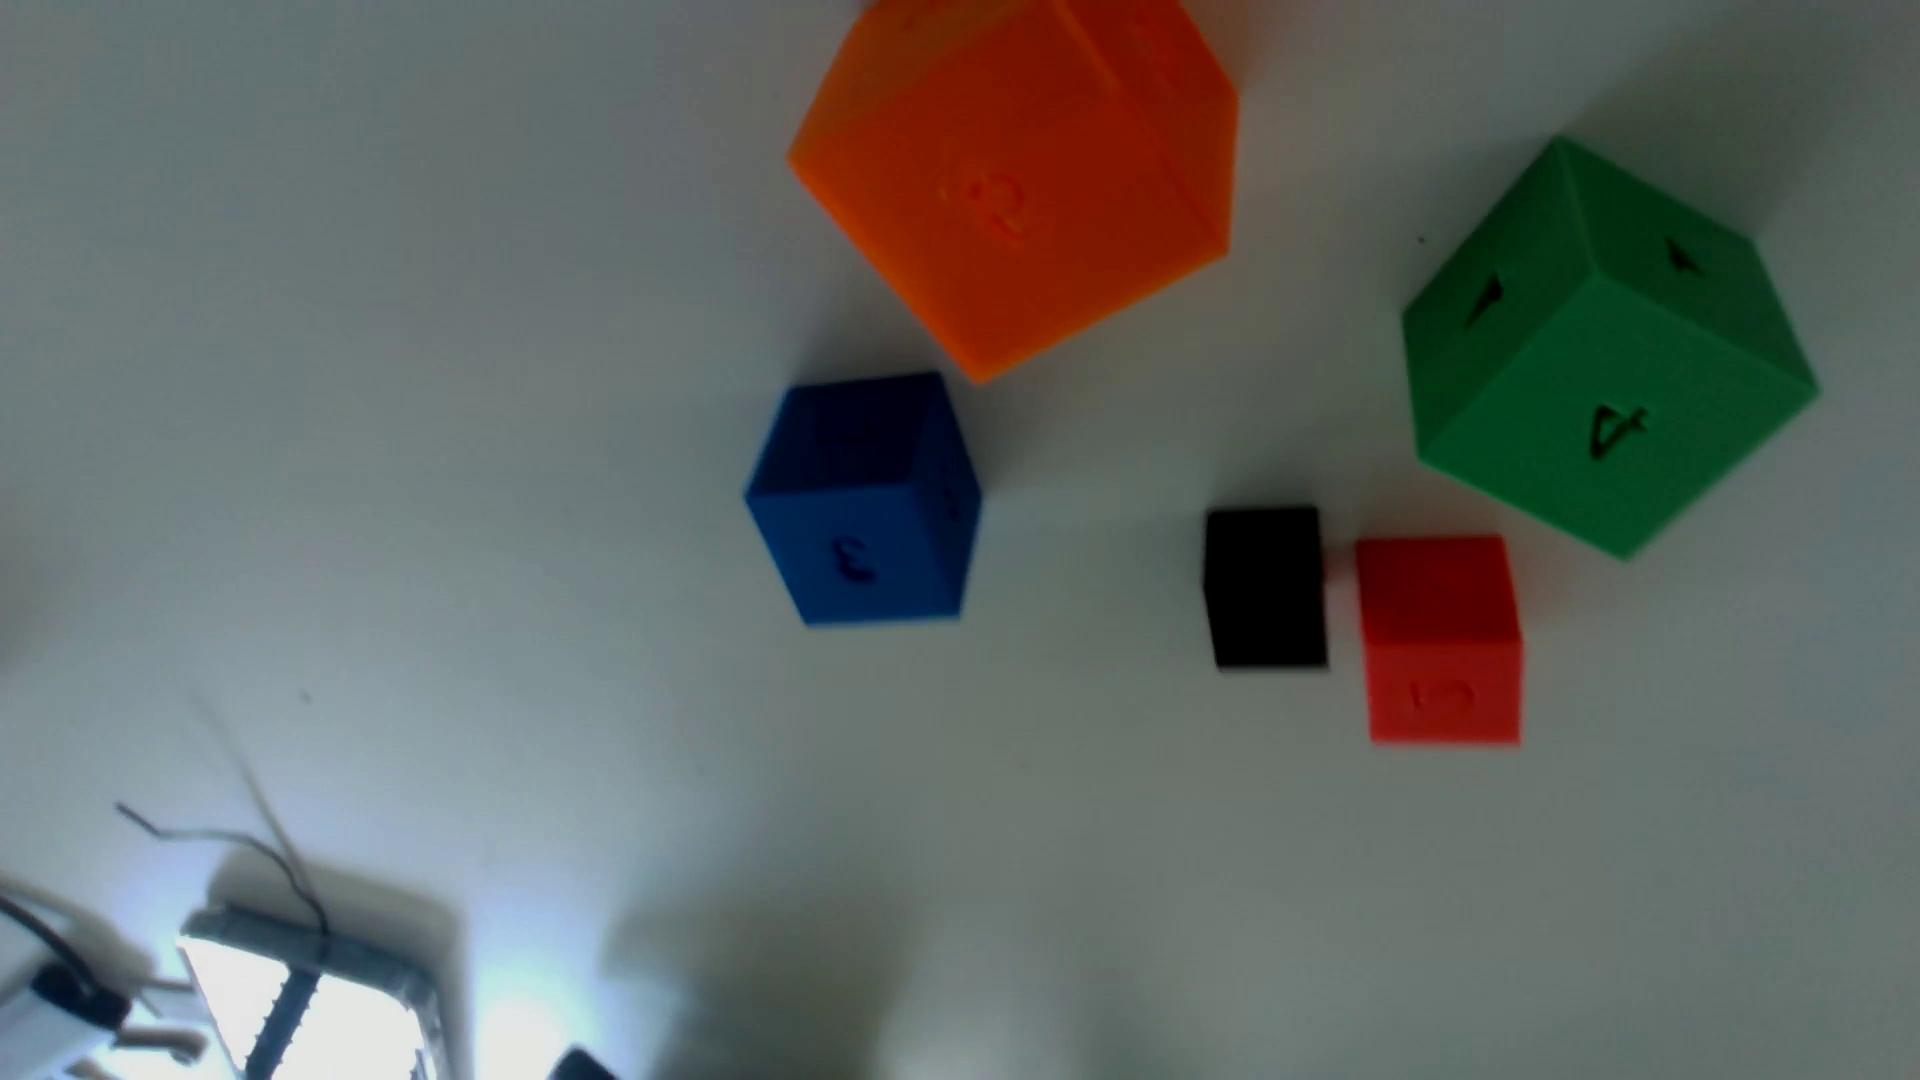black: (1203, 505, 1328, 670)
blue: (745, 371, 982, 625)
green: (1402, 137, 1818, 558)
orange: (789, 0, 1240, 380)
red: (1356, 535, 1523, 746)
